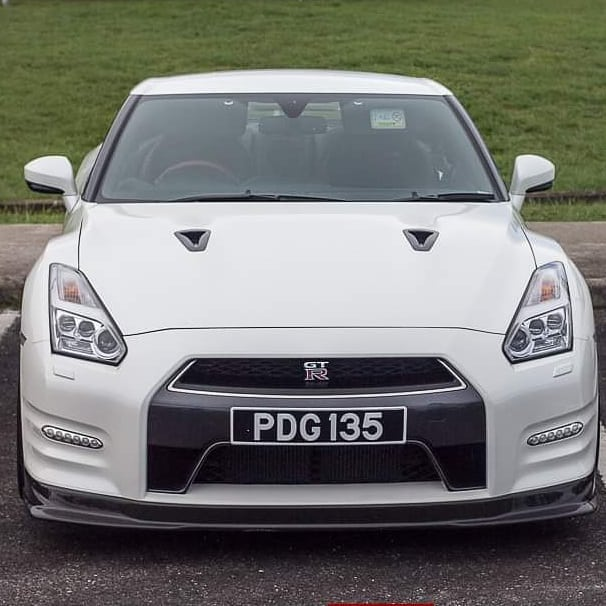License-Plate: (231, 408, 404, 442)
